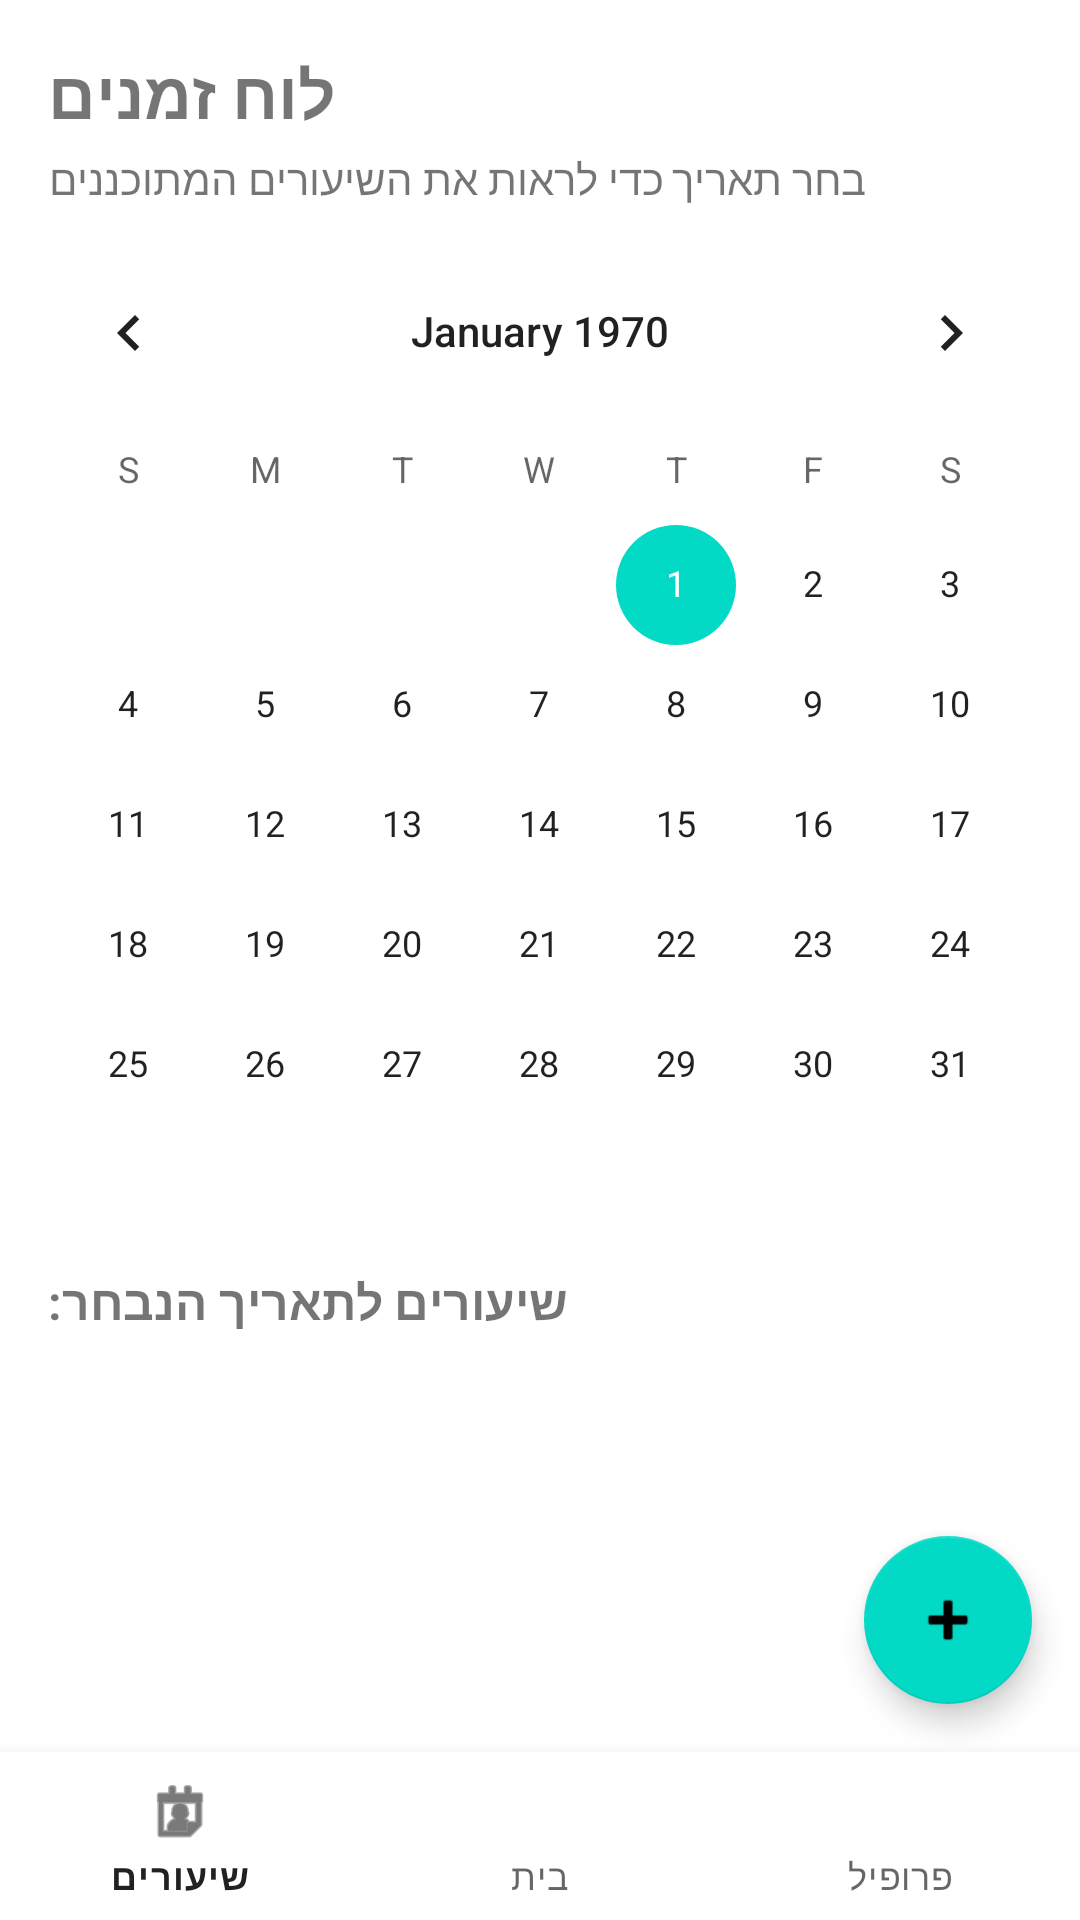

Icons on this 1080px×1920px Android screen, each with the point to tap as [x,y]:
הוסף שיעור חדש: [948,1620]
